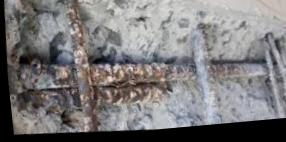damage: (4, 0, 286, 135)
